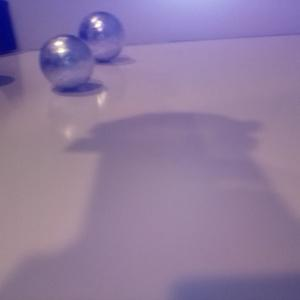alive_ball: (40, 34, 94, 89), (78, 10, 123, 59)
